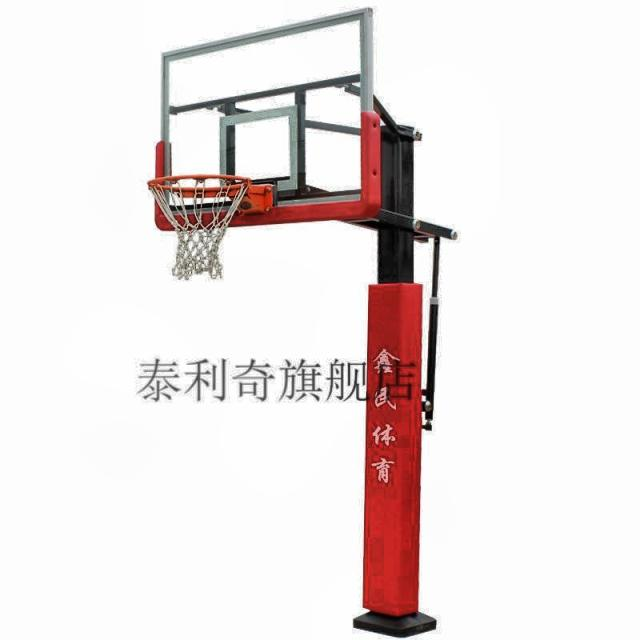rim: (150, 174, 247, 278)
